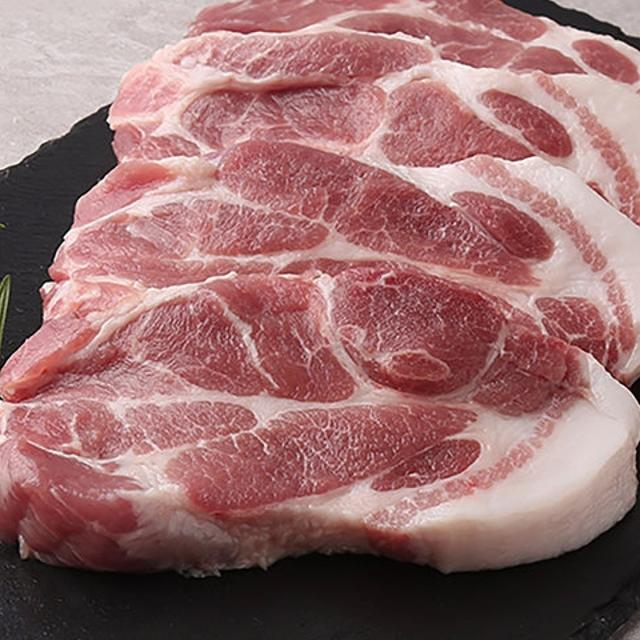beef: (0, 262, 640, 573), (44, 137, 640, 388), (110, 27, 640, 260), (177, 0, 640, 188)
